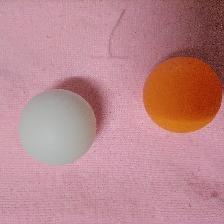WhiteBall: (18, 89, 96, 164)
YellowBall: (141, 55, 222, 133)
